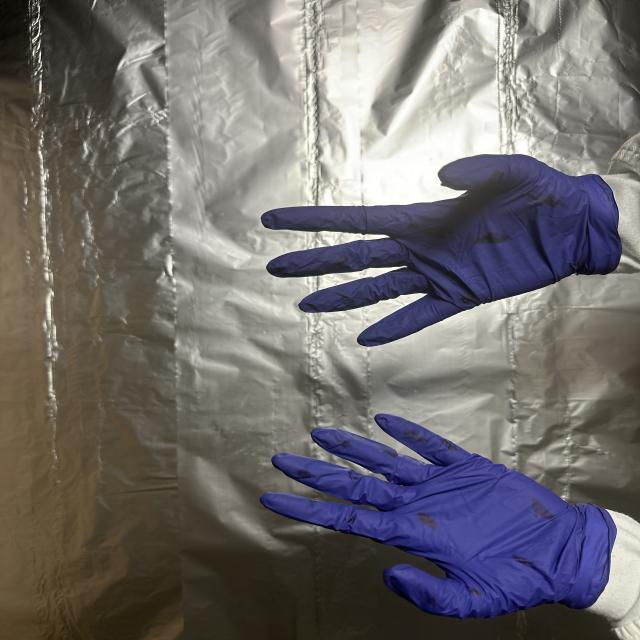gloves_contaminated: (261, 414, 615, 618), (262, 155, 621, 345)
